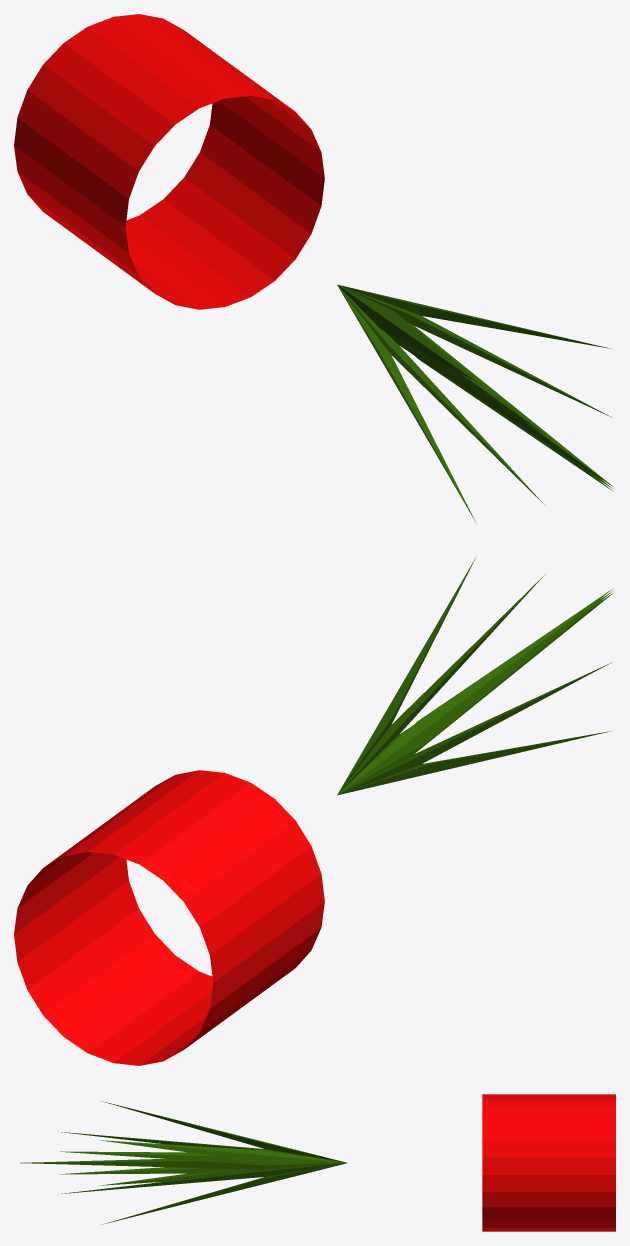
The model's file is Perennao25cm.obj.
3 views of the same model, one above another, from view 1: azimuth 30°, elevation 25°; view 2: azimuth 150°, elevation 25°; view 3: azimuth 270°, elevation 25° (orthographic). The views are drawn at different scales.
Size of the model in its own units: 0.1031 by 0.1031 by 0.45.
